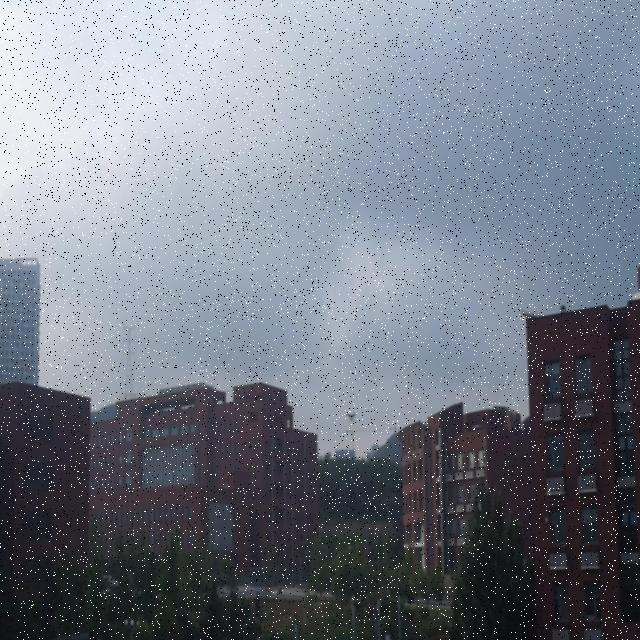UAV: (344, 412, 356, 422)
